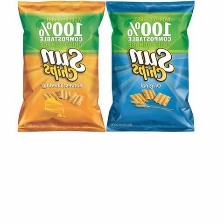snack: (10, 0, 108, 135), (102, 0, 199, 136)
